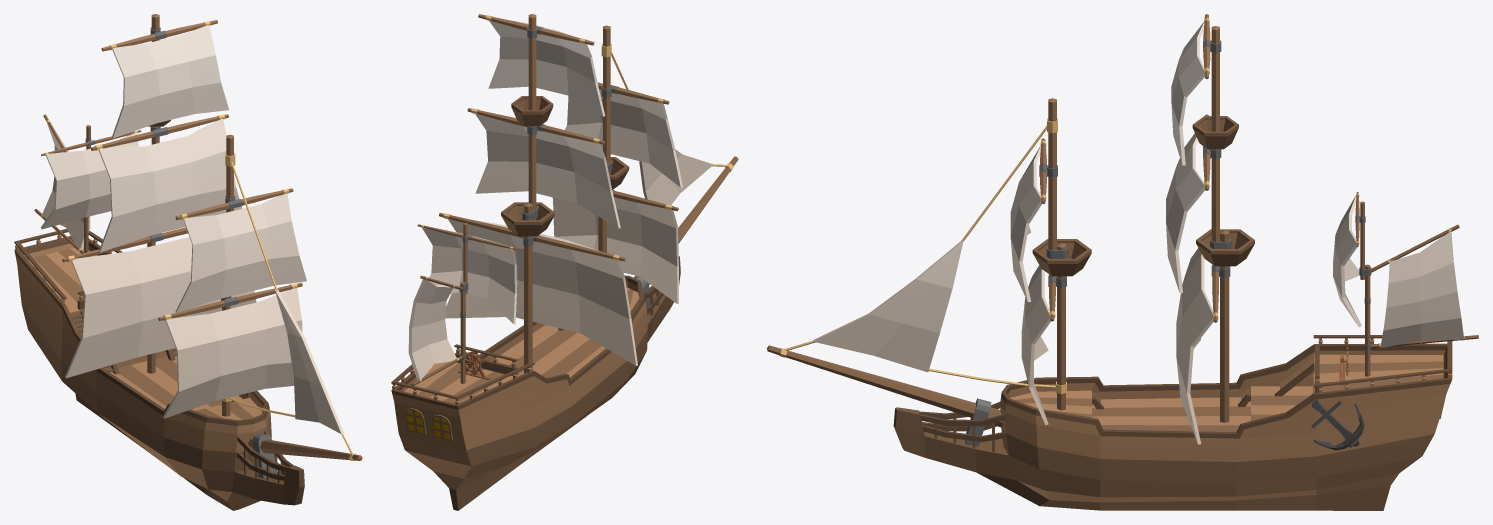
Rendered from ship-large-2.glb.
3 renders of one model, left to right at view 1: azimuth 30°, elevation 25°; view 2: azimuth 150°, elevation 25°; view 3: azimuth 270°, elevation 25°, orthographic. The views are drawn at different scales.
Parts seen in each view (by area): view 1: ship large 2; view 2: ship large 2; view 3: ship large 2.
Boxes of the visible parts, box(x1,y1,x2,y2) form: ship large 2: box(14, 14, 362, 510); ship large 2: box(391, 14, 738, 510); ship large 2: box(767, 14, 1478, 510).
Size of the model in its own units: 15.72 by 33.77 by 45.14.
1 material, 1 textured.
